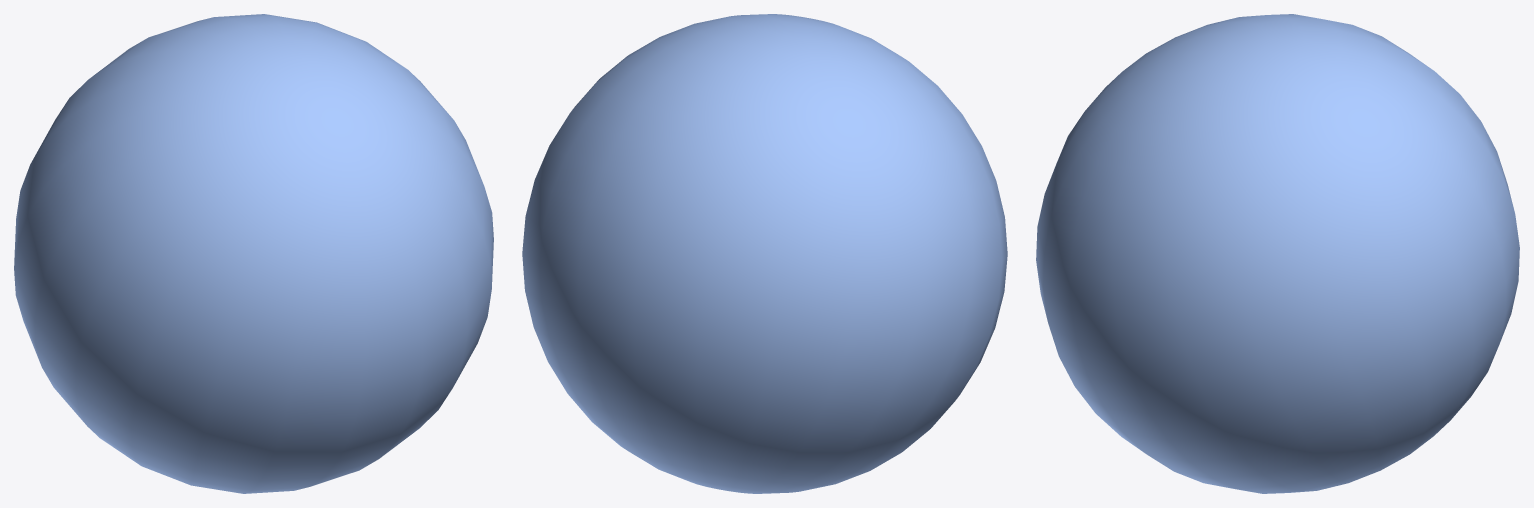
The model's file is Earth.dae.
The picture shows the model from 3 angles, left to right: view 1: azimuth 30°, elevation 25°; view 2: azimuth 150°, elevation 25°; view 3: azimuth 270°, elevation 25°; orthographic projection.
Visible parts, largest first — view 1: Admosphere; view 2: Admosphere; view 3: Admosphere.
Part boxes in pixels (box(x1,y1,x2,y2)): Admosphere: box(14, 14, 493, 493); Admosphere: box(522, 14, 1007, 493); Admosphere: box(1036, 14, 1519, 493).
Size of the model in its own units: 11.18 by 11.15 by 11.03.
